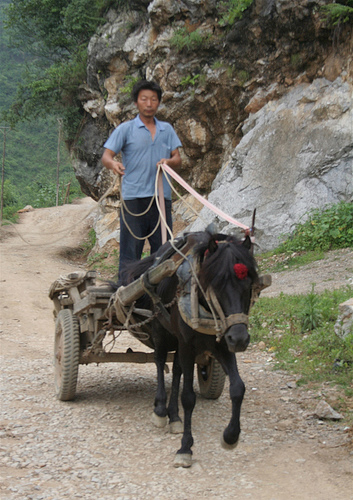horse: (107, 221, 272, 468)
